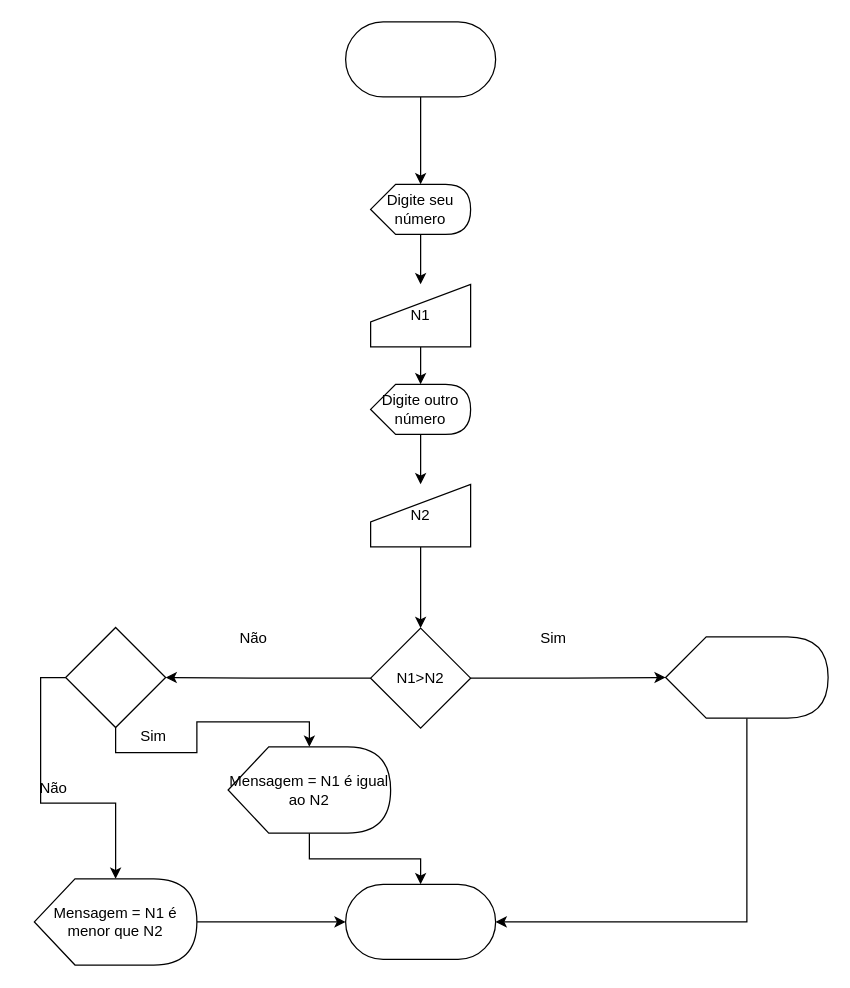
Some shapes in this 850 by 988 pixel diagram are drawn without their labels. Each missing label, with the box of its shape:
Fim: (344, 883, 496, 959)
Início: (344, 21, 496, 97)
Mensagem = N1 é maior que N2: (664, 636, 828, 718)
Os números são iguais?: (64, 626, 166, 728)
